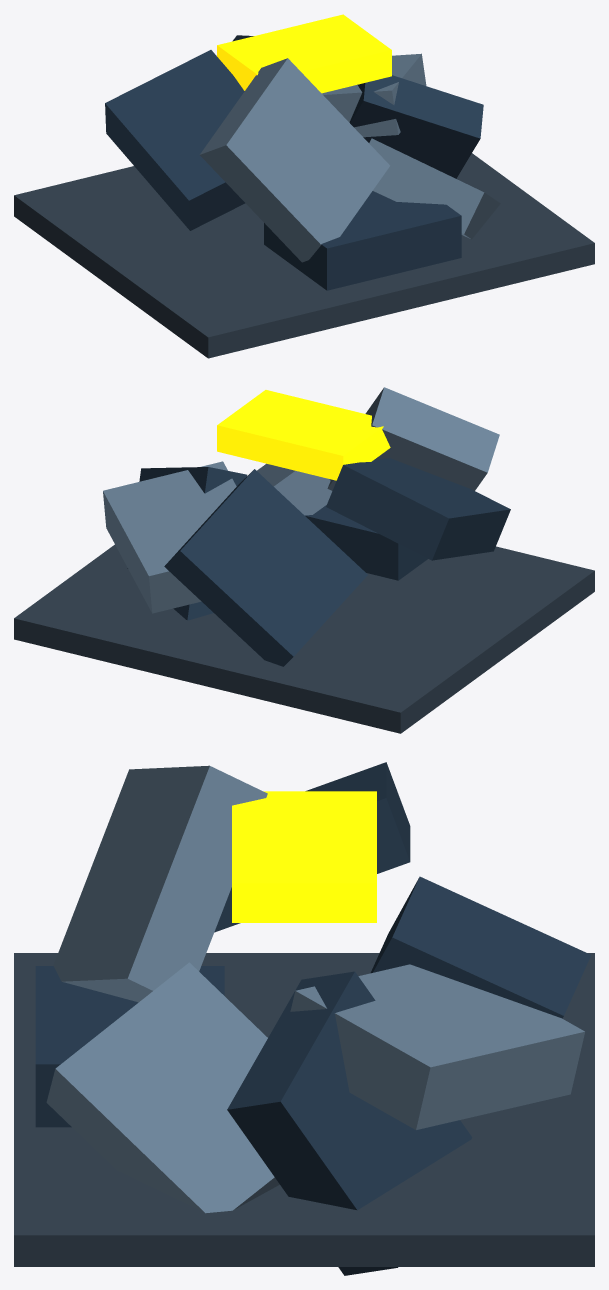
File: metal_low.glb
3 views of the same model, one above another, from view 1: azimuth 30°, elevation 25°; view 2: azimuth 150°, elevation 25°; view 3: azimuth 270°, elevation 25° (orthographic). The views are drawn at different scales.
Parts seen in each view (by area): view 1: Salvage footing, Discarded machine plating.005, Discarded machine plating.002, Discarded machine plating, Recoverable alloy, Discarded machine plating.006, Discarded machine plating.003, Discarded machine plating.001; view 2: Salvage footing, Discarded machine plating.004, Discarded machine plating.002, Recoverable alloy, Discarded machine plating.001, Discarded machine plating.005, Discarded machine plating, Discarded machine plating.003, Discarded machine plating.006; view 3: Salvage footing, Discarded machine plating.003, Discarded machine plating.005, Discarded machine plating.001, Discarded machine plating.006, Recoverable alloy, Discarded machine plating.004, Discarded machine plating, Discarded machine plating.002.
Boxes of the visible parts, box(x1,y1,x2,y2) form: Salvage footing: box(14, 153, 594, 358); Discarded machine plating.005: box(200, 58, 389, 262); Discarded machine plating.002: box(105, 50, 245, 230); Discarded machine plating: box(264, 191, 461, 290); Recoverable alloy: box(217, 14, 391, 93); Discarded machine plating.006: box(349, 75, 483, 178); Discarded machine plating.003: box(369, 138, 500, 239); Discarded machine plating.001: box(322, 53, 426, 137); Salvage footing: box(14, 544, 594, 733); Discarded machine plating.004: box(164, 469, 367, 666); Discarded machine plating.002: box(326, 458, 510, 560); Recoverable alloy: box(217, 390, 390, 480); Discarded machine plating.001: box(103, 461, 236, 613); Discarded machine plating.005: box(327, 387, 499, 490); Discarded machine plating: box(305, 505, 427, 580); Discarded machine plating.003: box(257, 463, 332, 515); Discarded machine plating.006: box(127, 467, 247, 620); Salvage footing: box(14, 953, 594, 1266); Discarded machine plating.003: box(46, 962, 279, 1213); Discarded machine plating.005: box(53, 765, 267, 1002); Discarded machine plating.001: box(290, 964, 584, 1129); Discarded machine plating.006: box(227, 971, 472, 1275); Recoverable alloy: box(232, 791, 376, 922); Discarded machine plating.004: box(370, 876, 591, 1018); Discarded machine plating: box(35, 966, 224, 1127); Discarded machine plating.002: box(214, 762, 410, 932).
Size of the model in its own units: 2.3 by 1.44 by 2.
